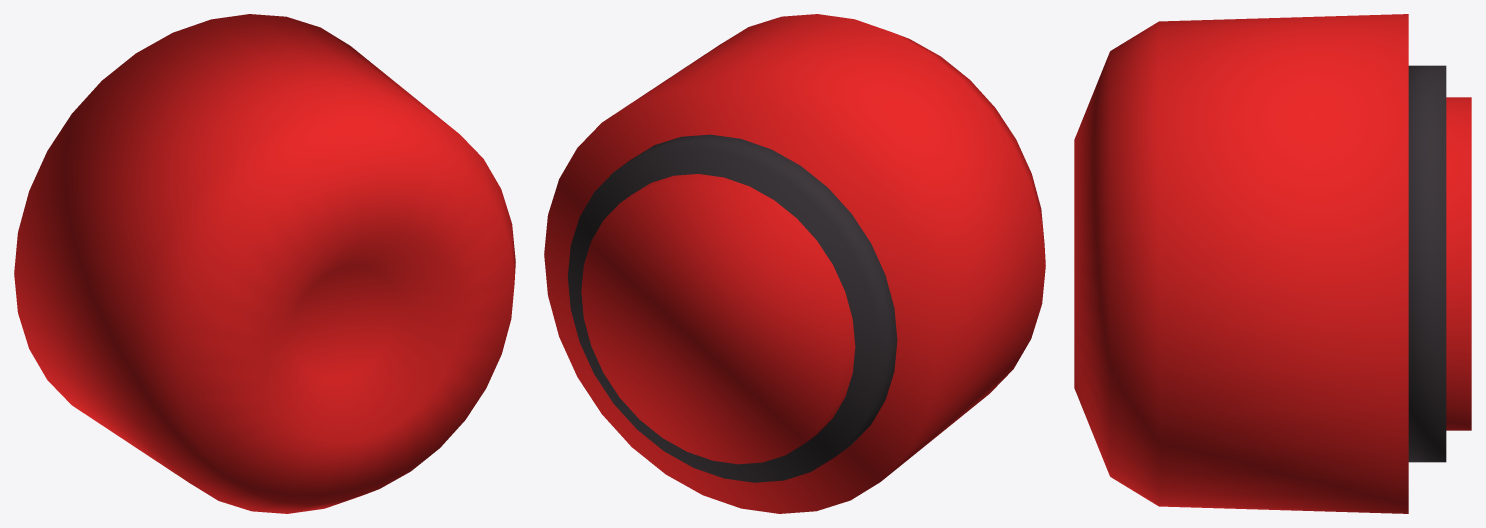
File: Button.fbx
The picture shows the model from 3 angles, left to right: view 1: azimuth 30°, elevation 25°; view 2: azimuth 150°, elevation 25°; view 3: azimuth 270°, elevation 25°; orthographic projection. The views are drawn at different scales.
Visible parts, largest first — view 1: Button Outline; view 2: Button Outline, Button, Button Sleeve; view 3: Button Outline, Button Sleeve, Button.
Boxes of the visible parts, bbox=[...] form: Button Outline: bbox=[14, 14, 515, 513]; Button Outline: bbox=[544, 14, 1045, 513]; Button: bbox=[581, 174, 855, 464]; Button Sleeve: bbox=[567, 134, 897, 482]; Button Outline: bbox=[1074, 14, 1408, 513]; Button Sleeve: bbox=[1408, 65, 1446, 462]; Button: bbox=[1446, 97, 1471, 430].
Bounding box in the file's own units: 300 × 238 × 300.
